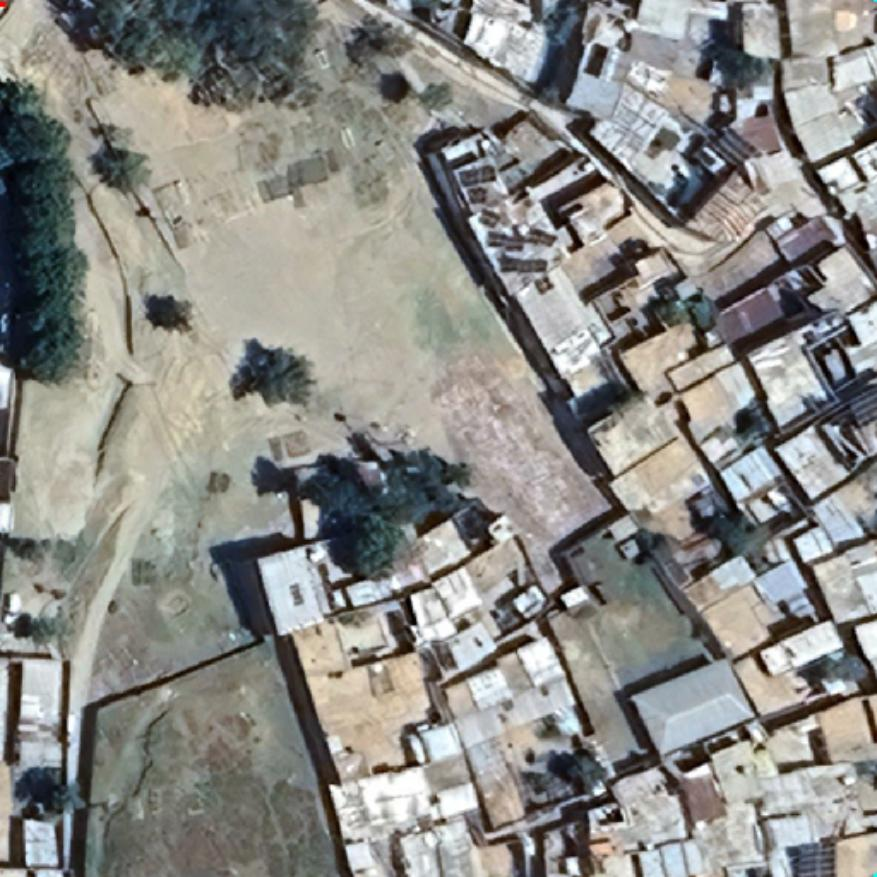Solarpanel: (700, 126, 755, 169), (456, 160, 498, 208), (486, 224, 562, 250), (795, 838, 837, 877), (842, 383, 875, 432), (499, 254, 549, 274), (467, 208, 503, 231)
